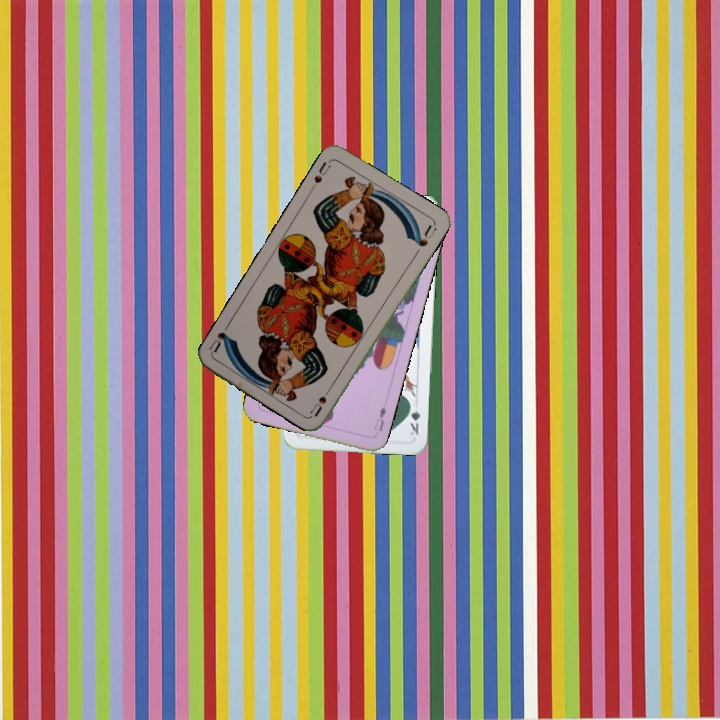EU: (370, 403, 389, 434)
GK: (406, 398, 423, 437)
SU: (307, 380, 336, 418), (310, 157, 333, 186)
